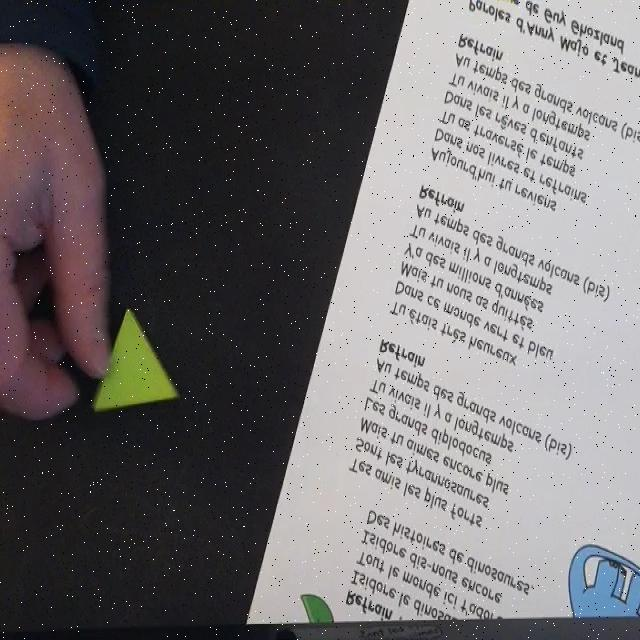triangle: (92, 308, 180, 415)
